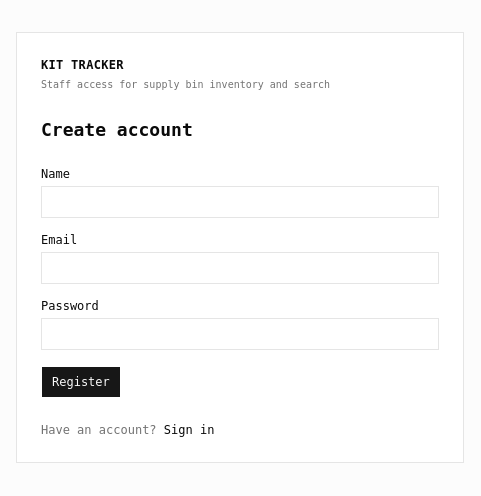
Test: Register › shows server error message when registration fails
Type "Test User" into the field labelled "Name".
click(240, 202); type("Test User")  # box [41, 186, 439, 218]
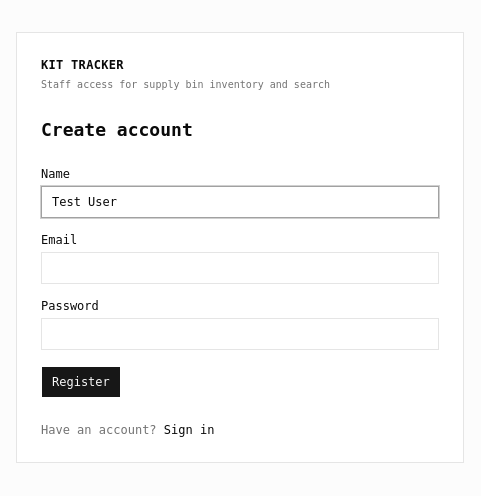
Type "test@example.com" into the field labelled "Email".
click(240, 268); type("test@example.com")  # box [41, 252, 439, 284]
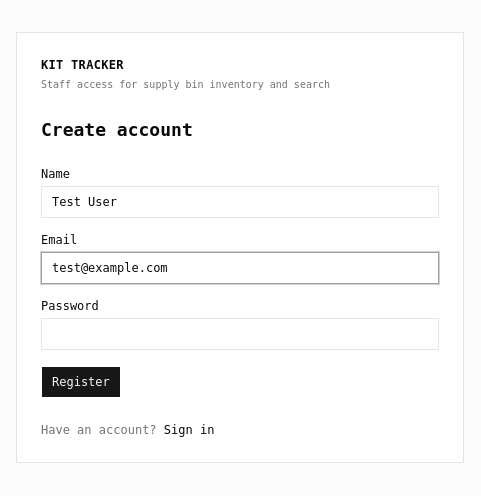
Type "password123" into the password field labelled "Password".
click(240, 334); type("password123")  # box [41, 318, 439, 350]
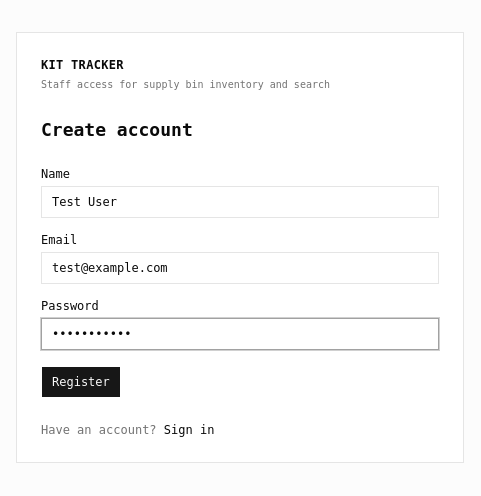
Click the button "Register".
click(81, 382)  # box [41, 366, 121, 398]
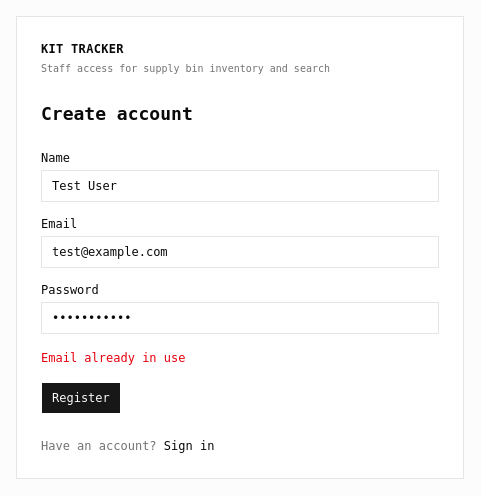
Result: the message reads "Email already in use" at [41, 350, 186, 364]
